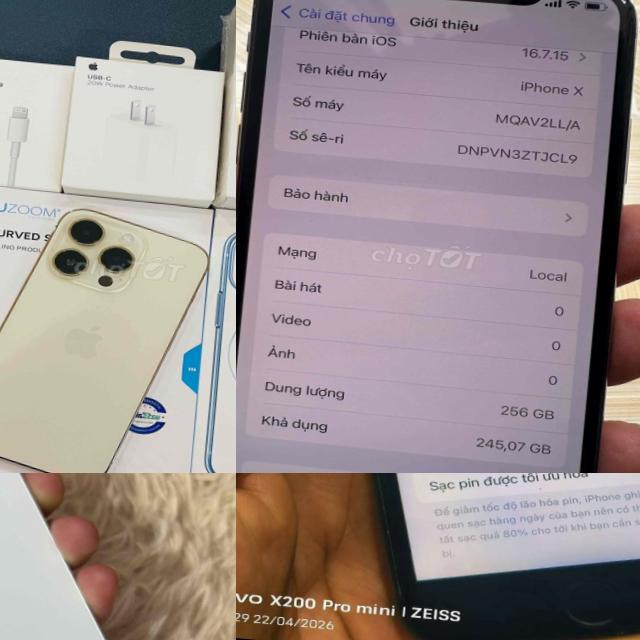gen_14: (0, 187, 212, 473)
gen_16: (0, 473, 236, 640)
gen_7_8: (257, 473, 640, 640)
gen_x_xs: (236, 0, 640, 473)
